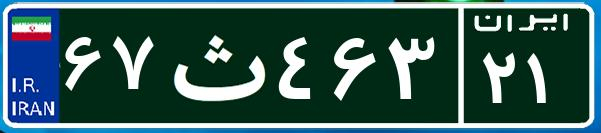1: (525, 38, 570, 115)
2: (475, 38, 525, 113)
3: (385, 28, 445, 110)
4: (273, 28, 330, 110)
6: (330, 28, 385, 110), (57, 26, 110, 107)
7: (110, 28, 158, 105)
ث: (158, 15, 273, 115)
